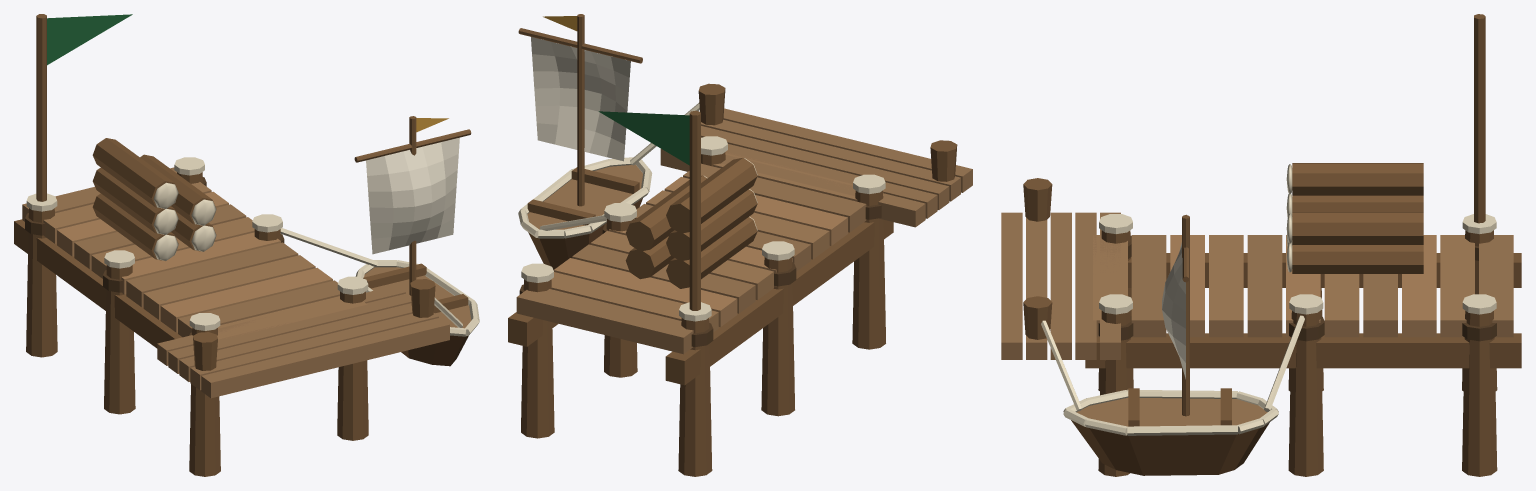
File: harbor-wood.glb
3 renders of one model, left to right at view 1: azimuth 30°, elevation 25°; view 2: azimuth 150°, elevation 25°; view 3: azimuth 270°, elevation 25°, orthographic. The views are drawn at different scales.
Visible parts, largest first — view 1: harbor-wood.003, harbor-wood, harbor-wood.008, harbor-wood.001, harbor-wood.004, harbor-wood.002, harbor-wood.010, harbor-wood.006, harbor-wood.005, harbor-wood.007; view 2: harbor-wood.003, harbor-wood, harbor-wood.008, harbor-wood.001, harbor-wood.004, harbor-wood.002, harbor-wood.010, harbor-wood.005, harbor-wood.006, harbor-wood.007; view 3: harbor-wood.003, harbor-wood, harbor-wood.001, harbor-wood.004, harbor-wood.002, harbor-wood.007, harbor-wood.006, harbor-wood.008, harbor-wood.005.
Part boxes in pixels (box(x1,y1,x2,y2)): harbor-wood.003: box(14, 14, 471, 476); harbor-wood: box(22, 167, 471, 398); harbor-wood.008: box(366, 137, 459, 254); harbor-wood.001: box(43, 182, 367, 339); harbor-wood.004: box(26, 157, 479, 336); harbor-wood.002: box(57, 191, 332, 332); harbor-wood.010: box(47, 14, 132, 65); harbor-wood.006: box(401, 335, 464, 366); harbor-wood.005: box(25, 177, 284, 335); harbor-wood.007: box(408, 336, 468, 365); harbor-wood.003: box(508, 14, 957, 476); harbor-wood: box(516, 108, 972, 354); harbor-wood.008: box(531, 37, 630, 161); harbor-wood.001: box(551, 152, 883, 332); harbor-wood.004: box(518, 102, 885, 321); harbor-wood.002: box(553, 177, 847, 326); harbor-wood.010: box(598, 111, 689, 165); harbor-wood.005: box(519, 204, 881, 347); harbor-wood.006: box(540, 198, 642, 269); harbor-wood.007: box(528, 232, 589, 266); harbor-wood.003: box(1023, 14, 1521, 476); harbor-wood: box(1001, 212, 1513, 426); harbor-wood.001: box(1093, 235, 1474, 337); harbor-wood.004: box(1041, 164, 1496, 435); harbor-wood.002: box(1170, 235, 1436, 337); harbor-wood.007: box(1071, 420, 1269, 475); harbor-wood.006: box(1089, 428, 1258, 475); harbor-wood.008: box(1162, 242, 1185, 379); harbor-wood.005: box(1098, 236, 1496, 341).
Size of the model in its own units: 0.7868 by 0.735 by 0.93.
